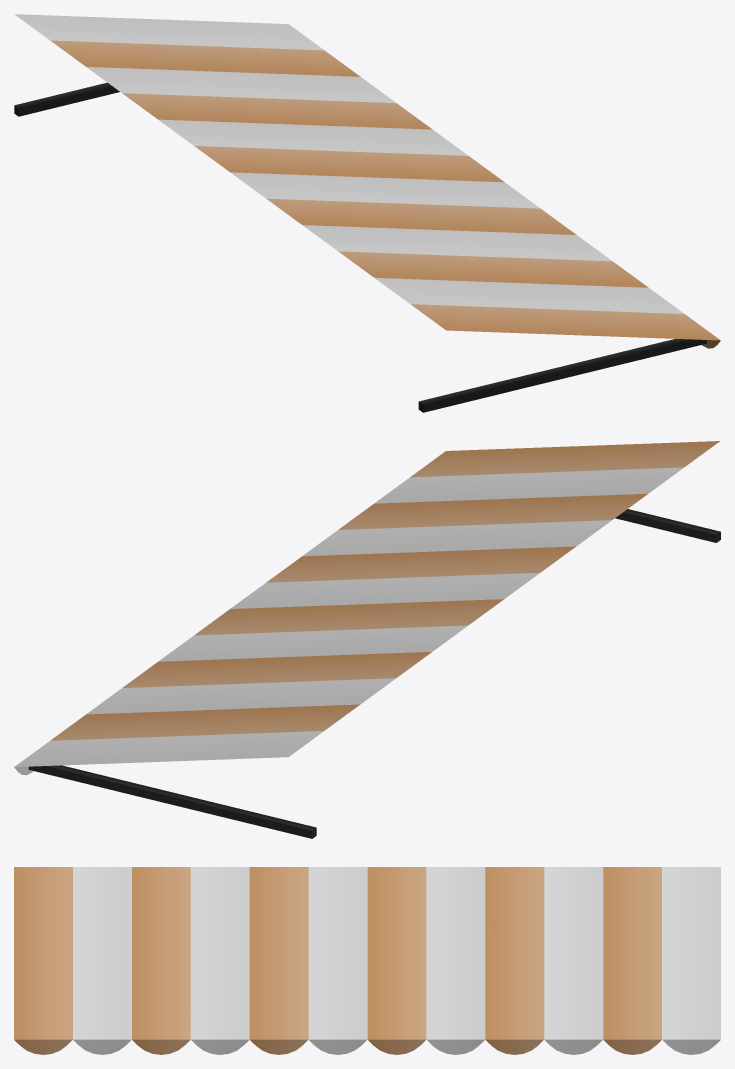
Rendered from SM_overhangBrown01.fbx.
3 renders of one model, top to bottom at view 1: azimuth 30°, elevation 25°; view 2: azimuth 150°, elevation 25°; view 3: azimuth 270°, elevation 25°, orthographic. The views are drawn at different scales.
Visible parts, largest first — view 1: SM_overhangBrown; view 2: SM_overhangBrown; view 3: SM_overhangBrown.
Boxes of the visible parts, bbox=[...] form: SM_overhangBrown: bbox=[14, 14, 720, 412]; SM_overhangBrown: bbox=[14, 441, 720, 838]; SM_overhangBrown: bbox=[14, 867, 720, 1054].
Size of the model in its own units: 165 by 52.79 by 432.
